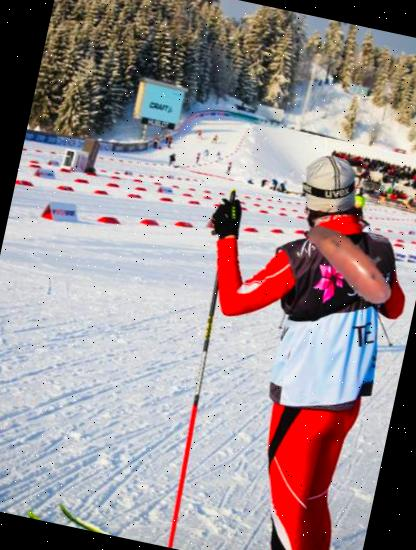Banana: (290, 198, 416, 325)
